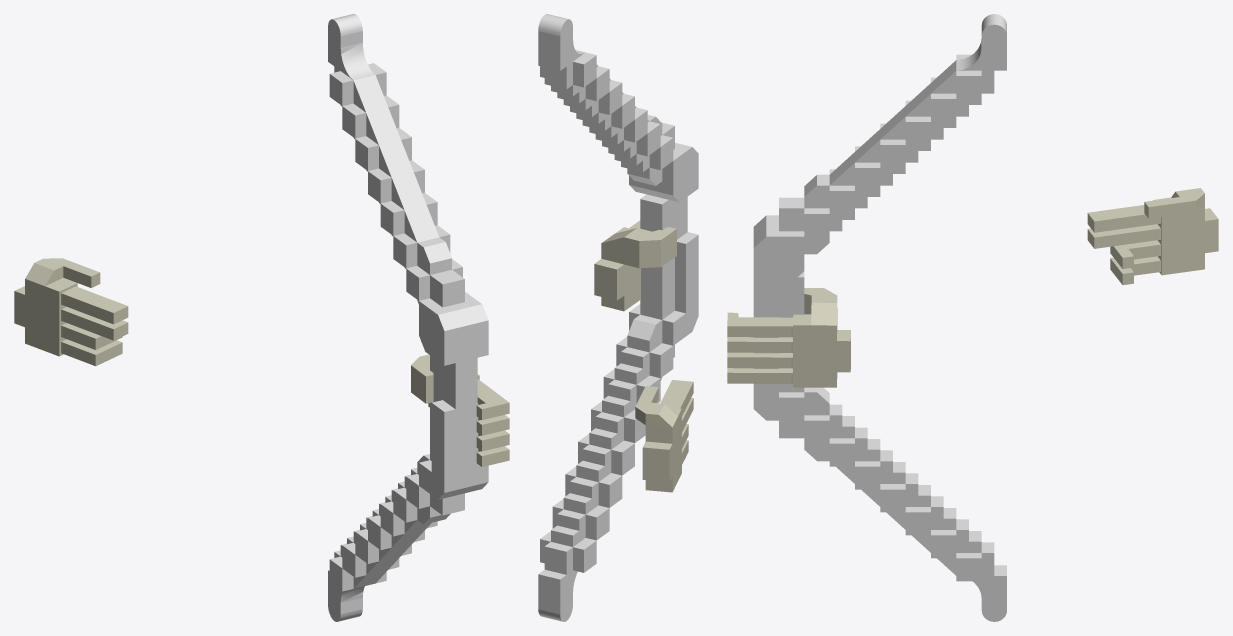
The model's file is SkeleHandsBow.fbx.
3 views of the same model, side by side, from view 1: azimuth 30°, elevation 25°; view 2: azimuth 150°, elevation 25°; view 3: azimuth 270°, elevation 25° (orthographic).
Parts seen in each view (by area): view 1: SkeleHandsBow; view 2: SkeleHandsBow; view 3: SkeleHandsBow.
Part boxes in pixels (left/top/right/bottom): SkeleHandsBow: left=14, top=14, right=509, bottom=621; SkeleHandsBow: left=538, top=14, right=698, bottom=621; SkeleHandsBow: left=727, top=14, right=1218, bottom=621.
Bounding box in the file's own units: 46.38 × 104 × 77.55.
